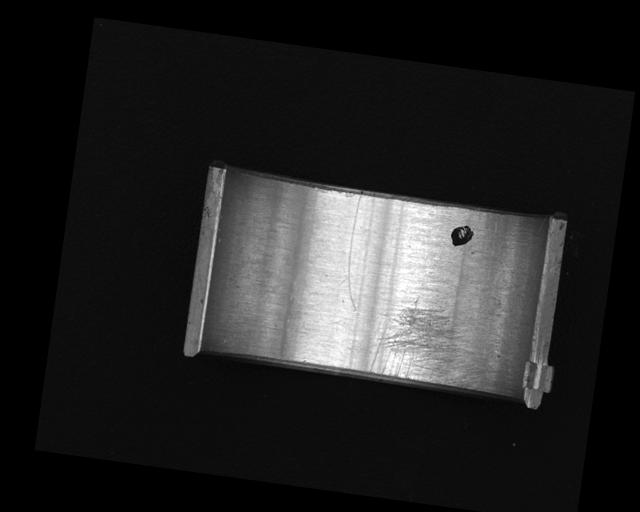blot: (447, 222, 476, 250)
nick: (340, 190, 373, 313)
scratch: (367, 290, 489, 390)
